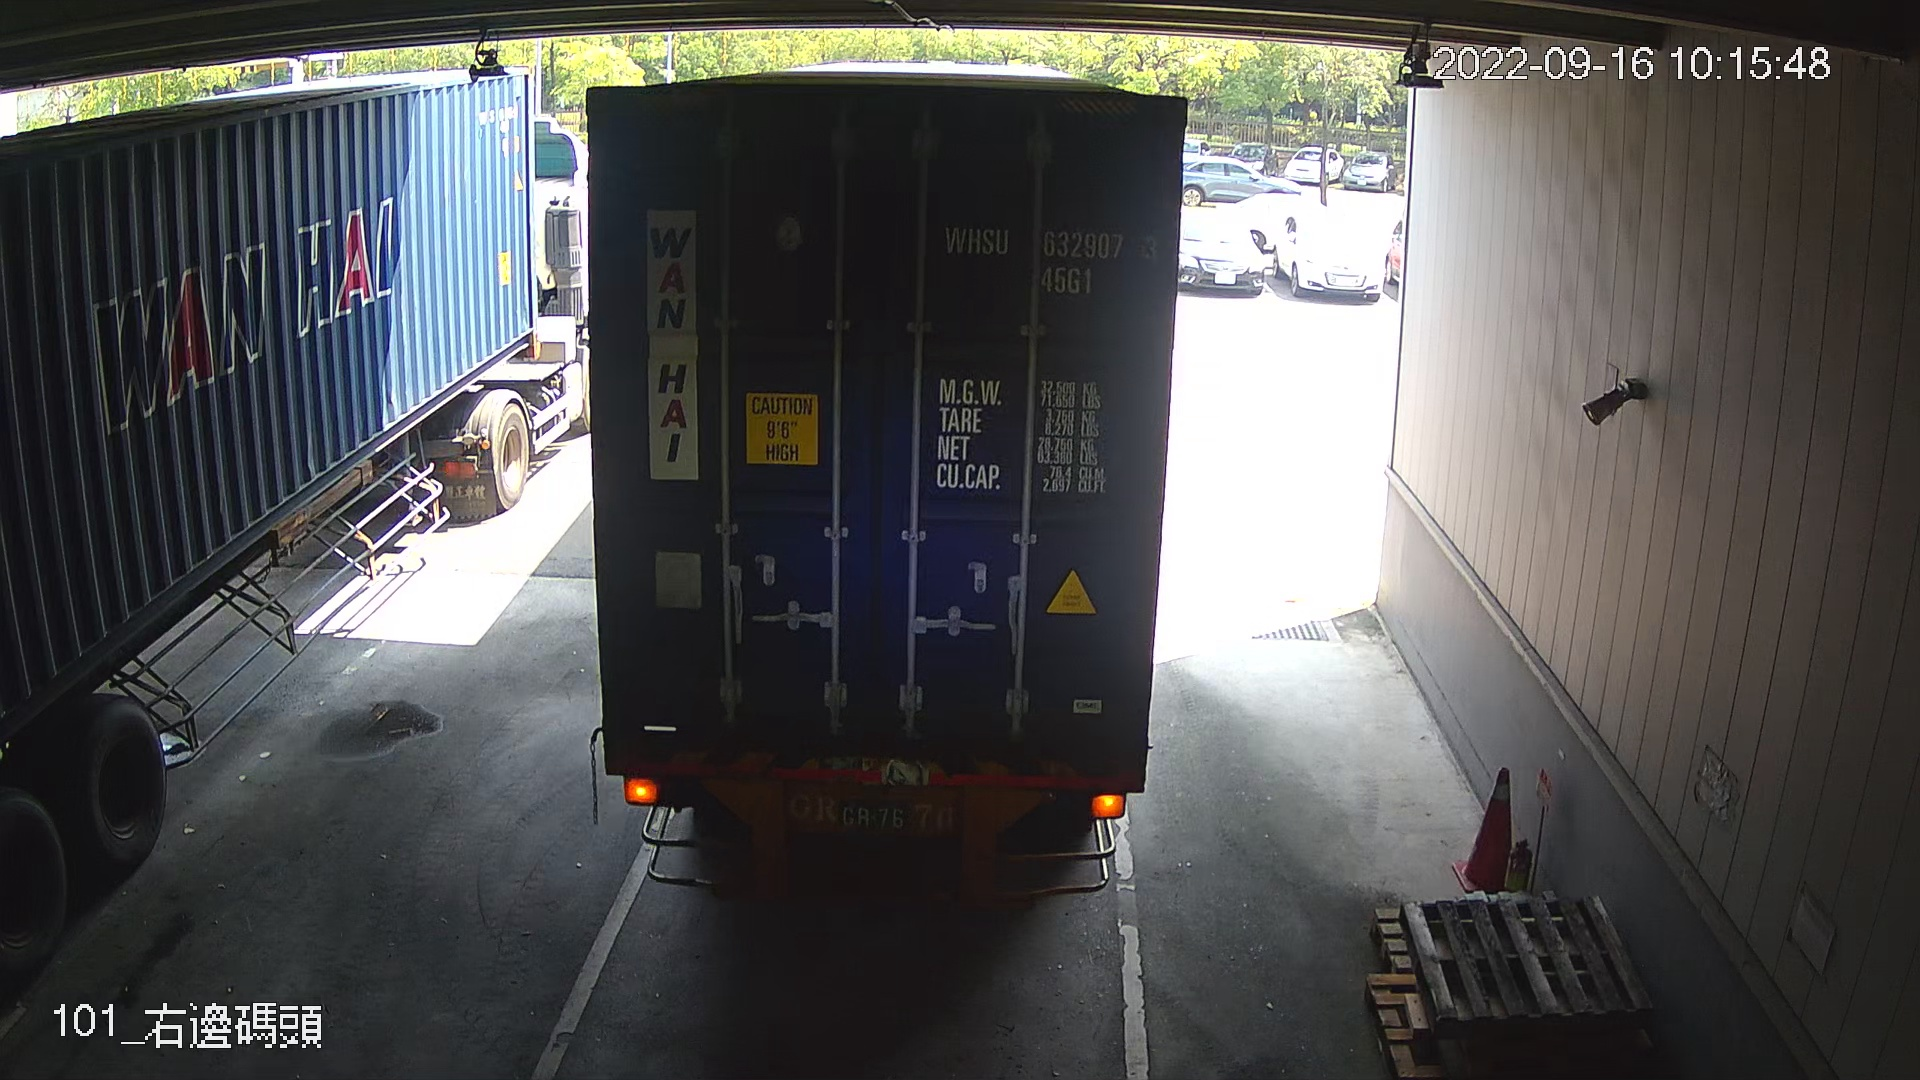container: (938, 214, 1168, 305)
